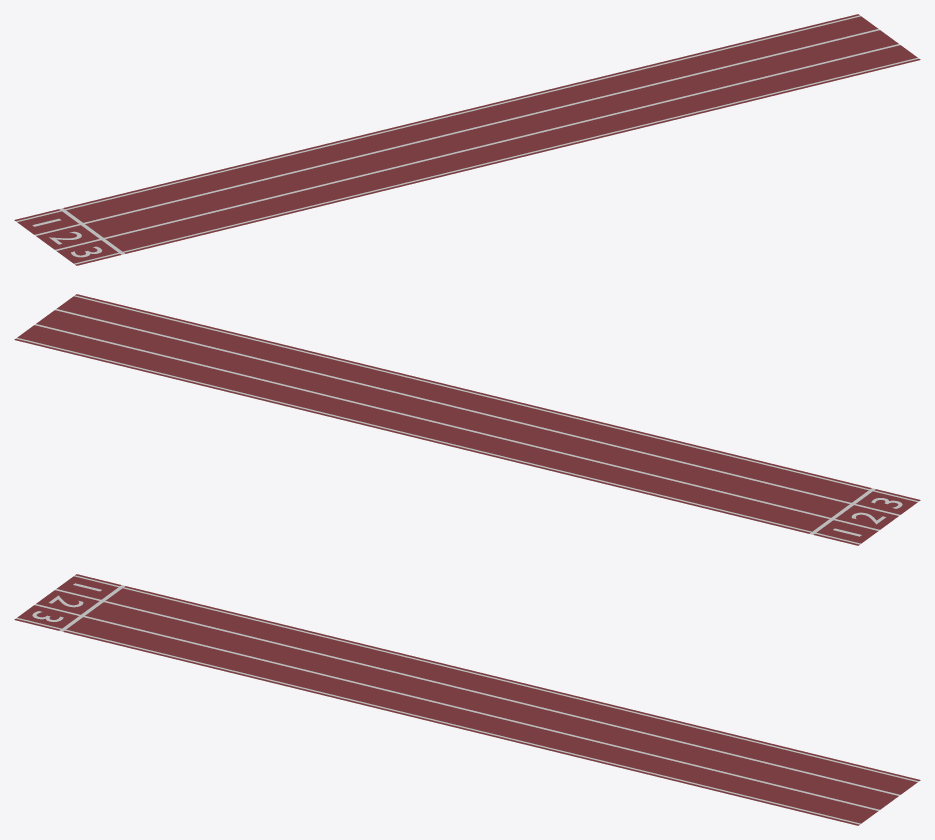
The model's file is Track.fbx.
3 views of the same model, one above another, from view 1: azimuth 30°, elevation 25°; view 2: azimuth 150°, elevation 25°; view 3: azimuth 330°, elevation 25° (orthographic).
Parts seen in each view (by area): view 1: Plane; view 2: Plane; view 3: Plane.
Boxes of the visible parts, <box> form: Plane: <box>14,14,920,265</box>; Plane: <box>14,294,920,545</box>; Plane: <box>14,574,920,825</box>.
Size of the model in its own units: 5373 by 0.1644 by 691.
